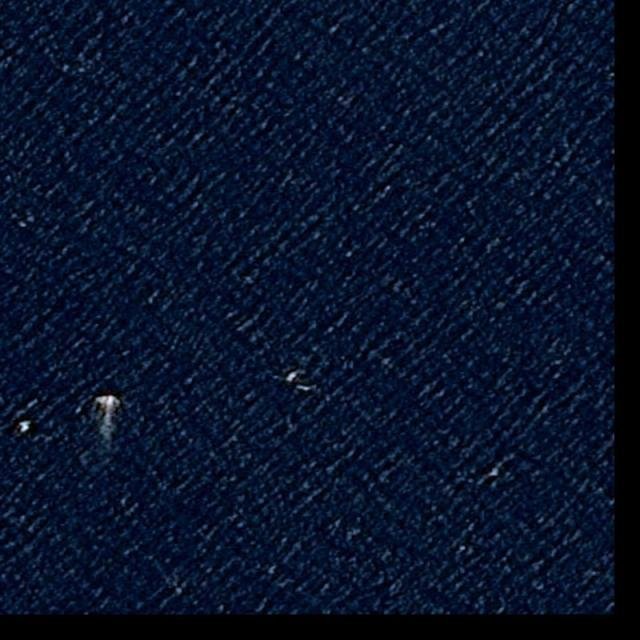ship: (105, 396, 116, 410)
